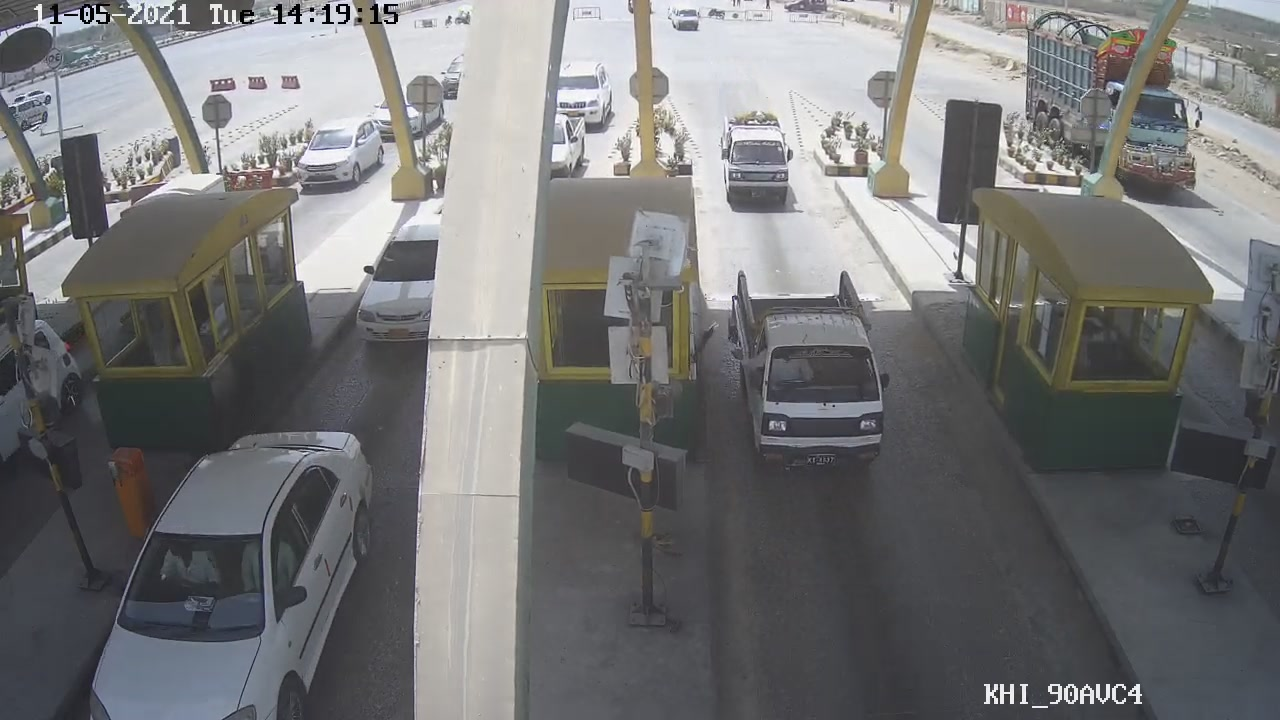F1: (726, 264, 896, 485)
